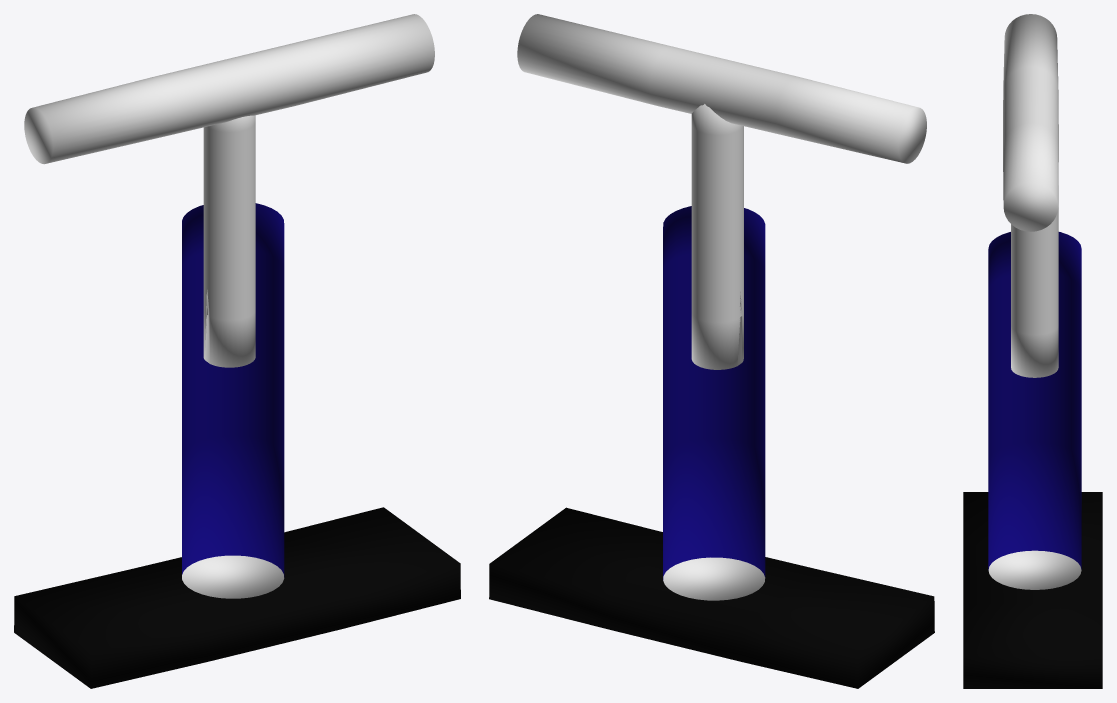
File: bicyclePump.gltf
3 views of the same model, side by side, from view 1: azimuth 30°, elevation 25°; view 2: azimuth 150°, elevation 25°; view 3: azimuth 270°, elevation 25° (orthographic). The views are drawn at different scales.
Visible parts, largest first — view 1: Cylinder, HandlebarTopButtom.001; view 2: Cylinder, HandlebarTopButtom.001; view 3: Cylinder, HandlebarTopButtom.001.
Boxes of the visible parts, box(x1,y1,x2,y2) form: Cylinder: box(14, 203, 460, 688); HandlebarTopButtom.001: box(24, 14, 434, 367); Cylinder: box(489, 206, 934, 688); HandlebarTopButtom.001: box(517, 14, 926, 369); Cylinder: box(963, 232, 1102, 688); HandlebarTopButtom.001: box(1003, 14, 1058, 377).
Size of the model in its own units: 1.46 by 2.02 by 0.5035.
